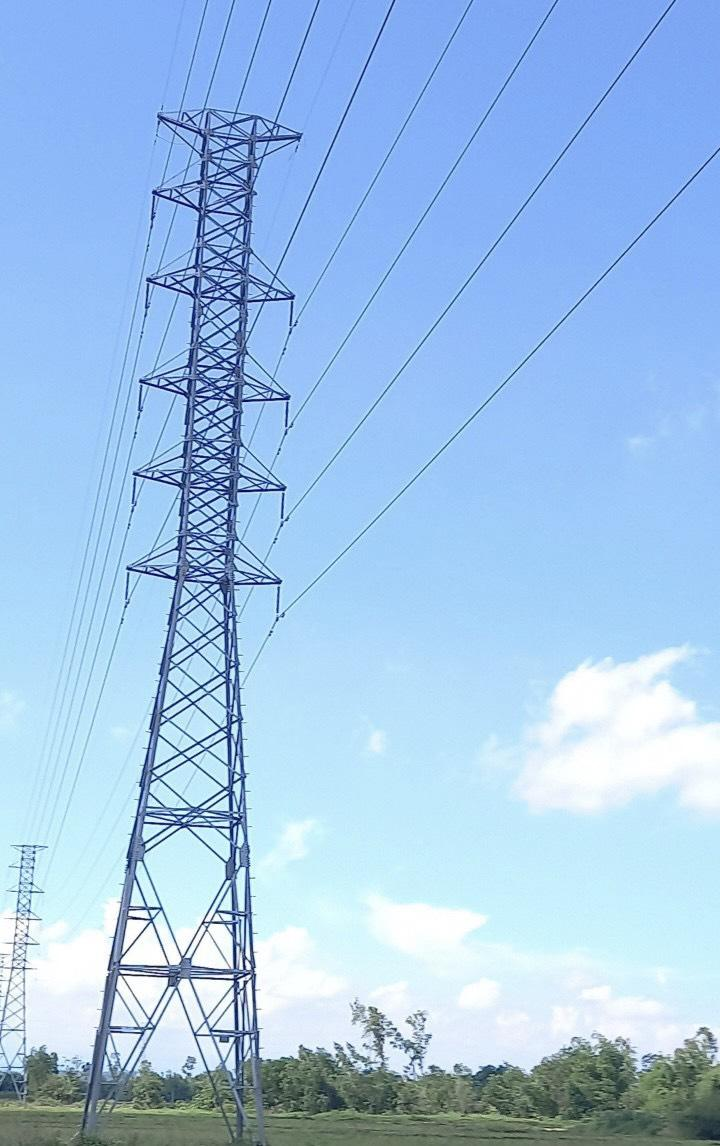power_tower: (122, 108, 270, 1135)
